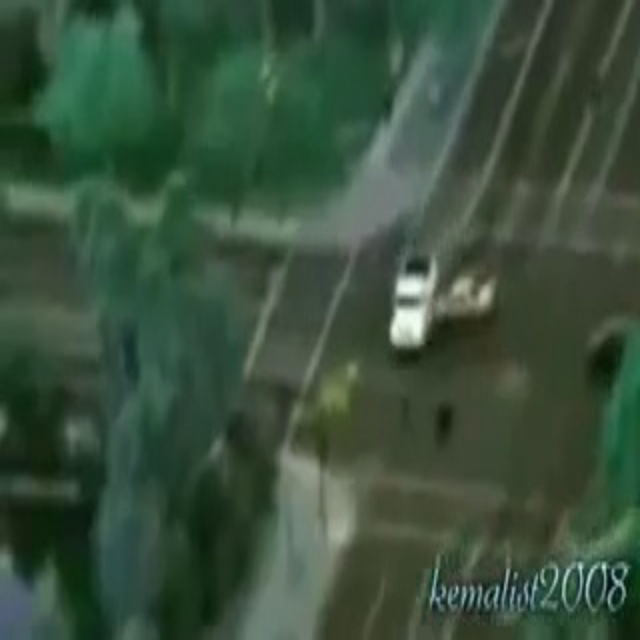acc: (385, 239, 499, 356)
